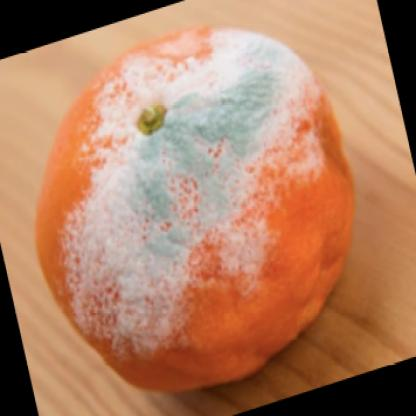rotten: (39, 27, 357, 394)
